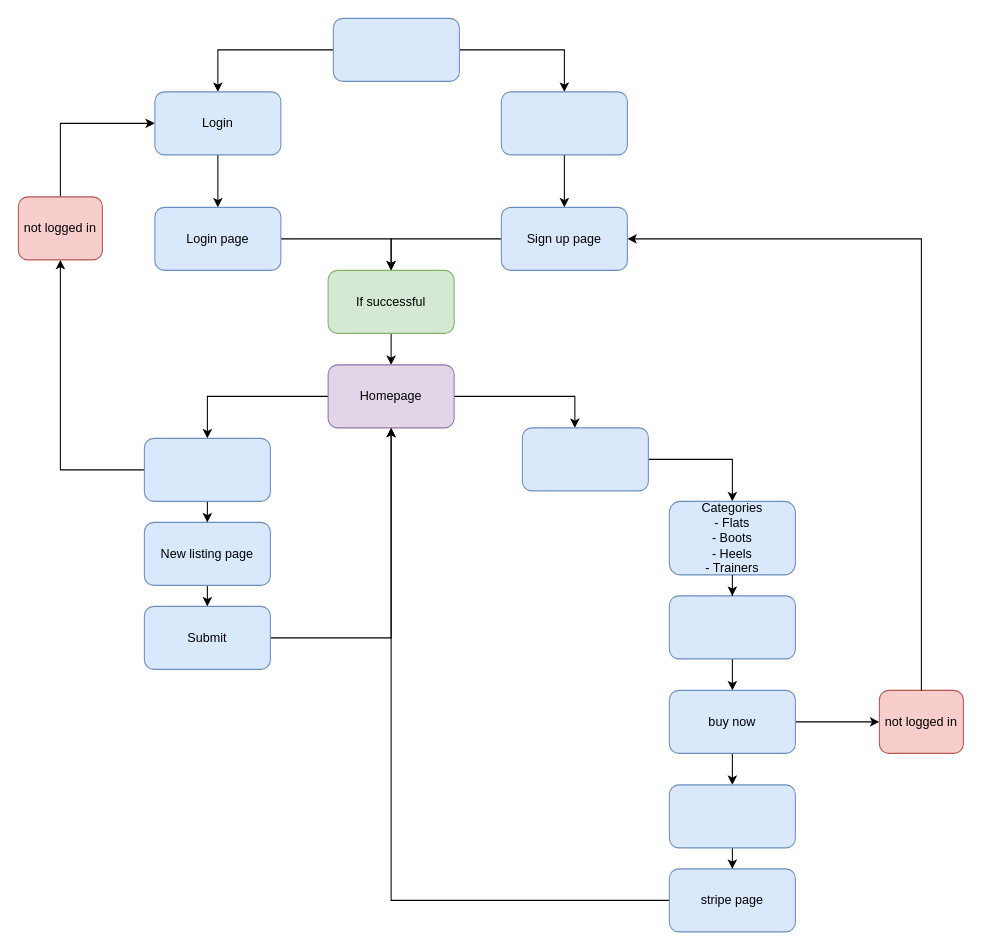
Some shapes in this 982 by 950 pixel diagram are drawn without their labels. Here are the shapes that lost their labels. From the top down, the box of each, then its label:
(332, 17, 459, 81): Homepage Login/Signup
(500, 91, 627, 155): Sign up
(143, 437, 270, 501): Sell a product
(521, 427, 648, 491): Browse products
(668, 595, 795, 659): Listing page
(668, 784, 795, 848): checkout
